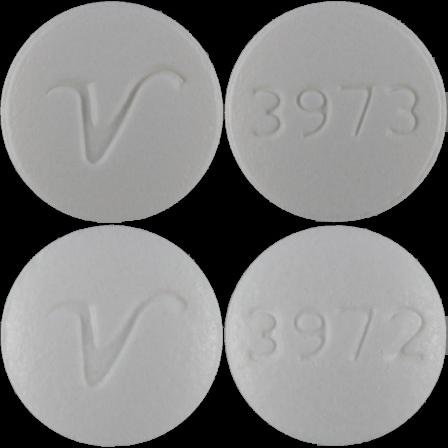43063-484: (0, 0, 224, 224)
